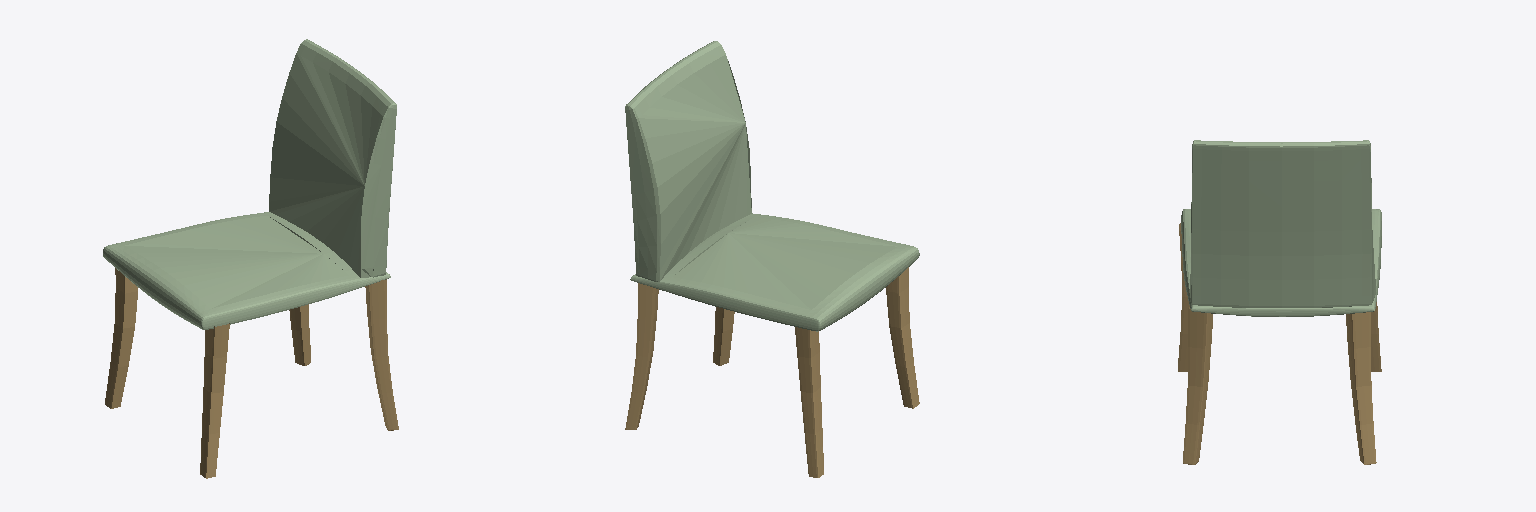
The model's file is chair.obj.
The picture shows the model from 3 angles: view 1: azimuth 30°, elevation 25°; view 2: azimuth 150°, elevation 25°; view 3: azimuth 270°, elevation 25°; orthographic projection.
Parts seen in each view (by area): view 1: ww004, coushin004, Line054, Line053; view 2: ww004, coushin004, Line054, Line053; view 3: ww004, Line053, coushin004, Line054.
Part boxes in pixels (x1,y1,x2,y2): ww004: (269,39,396,277); coushin004: (103,212,390,329); Line054: (105,268,229,478); Line053: (289,279,398,430); ww004: (625,41,751,281); coushin004: (630,213,919,331); Line054: (795,267,919,477); Line053: (625,283,734,429); ww004: (1190,140,1375,307); Line053: (1183,307,1376,464); coushin004: (1181,209,1381,316); Line054: (1178,223,1381,371).
Size of the model in its own units: 2.15 by 3.22 by 1.85.